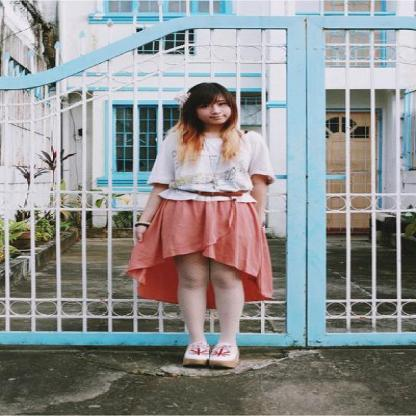shirt: (139, 125, 285, 209)
shoe: (179, 341, 261, 384)
skirt: (115, 195, 285, 324)
